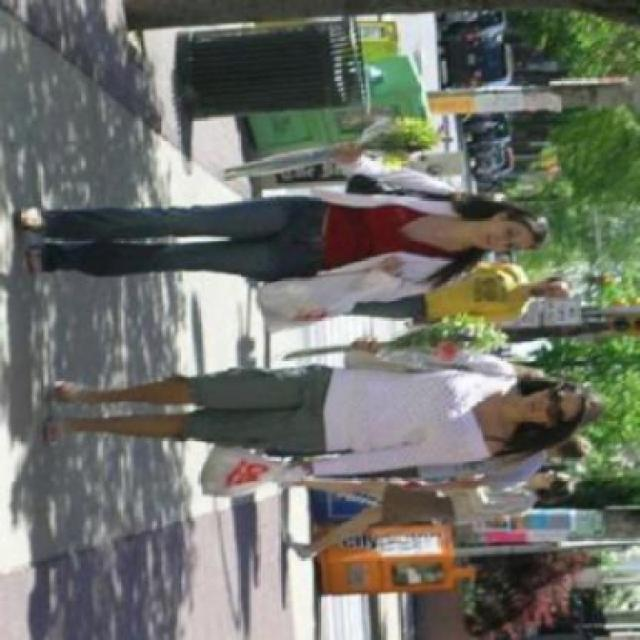Person: (2, 146, 550, 320), (32, 343, 591, 485), (292, 468, 580, 567), (345, 243, 570, 334)
